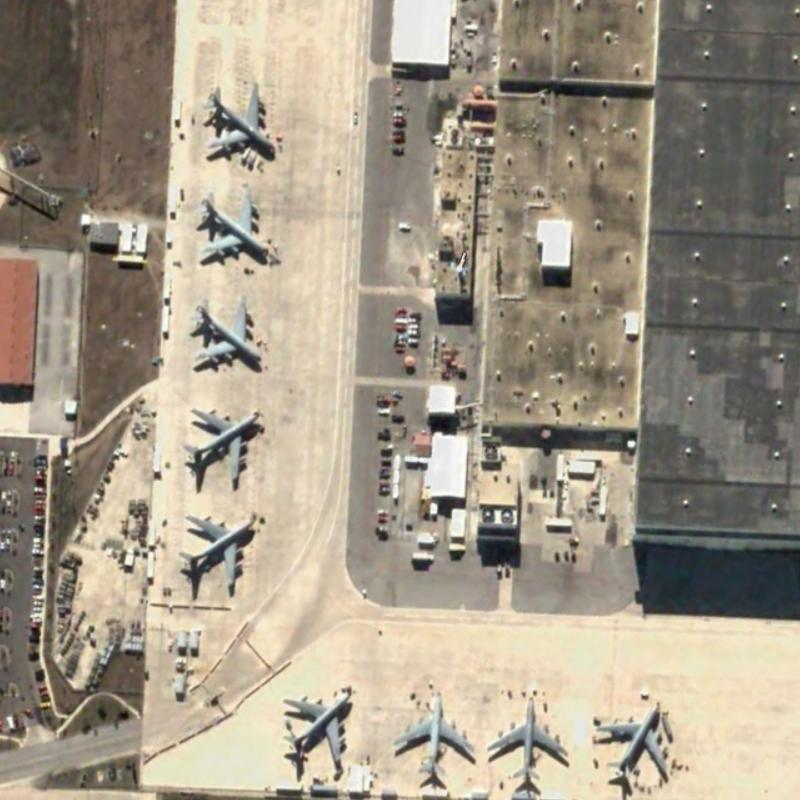A14: (382, 682, 481, 783), (480, 688, 575, 785), (586, 693, 681, 789), (175, 391, 264, 490), (173, 501, 262, 600), (268, 677, 359, 771), (188, 78, 286, 160), (180, 290, 270, 372), (189, 180, 275, 262)
